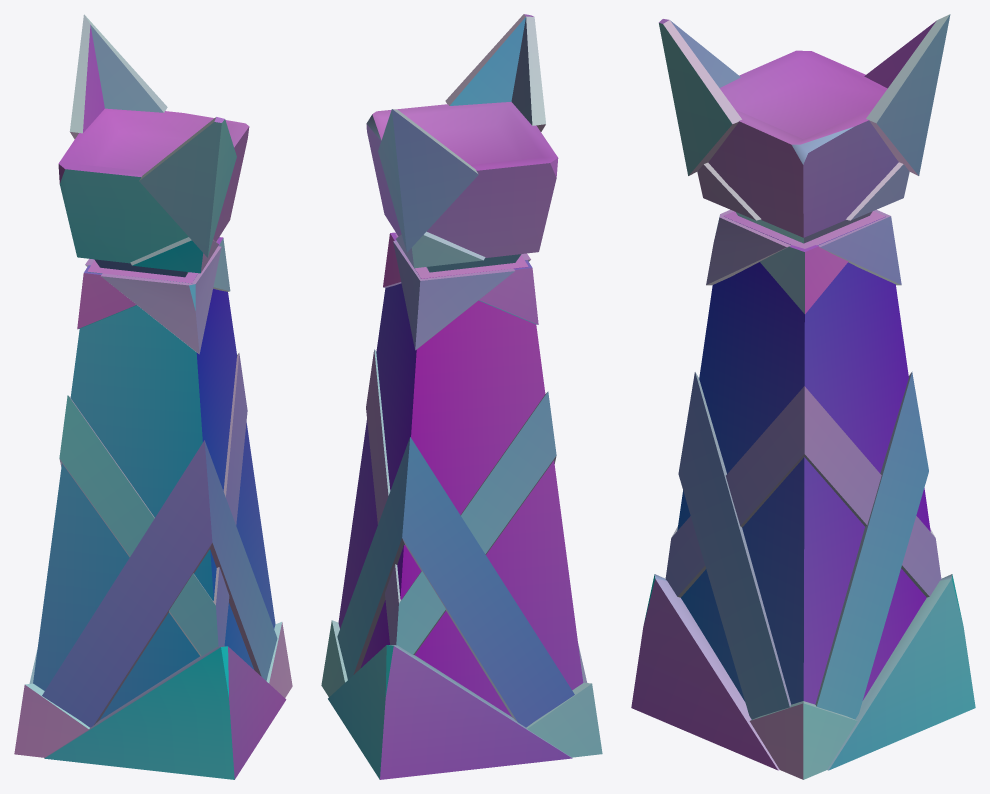
The picture shows the model from 3 angles, left to right: view 1: azimuth 30°, elevation 25°; view 2: azimuth 150°, elevation 25°; view 3: azimuth 270°, elevation 25°; orthographic projection. The views are drawn at different scales.
Parts seen in each view (by area): view 1: SM_LimestoneLarge_02_LOD0; view 2: SM_LimestoneLarge_02_LOD0; view 3: SM_LimestoneLarge_02_LOD0.
Part boxes in pixels (bbox=[...]): SM_LimestoneLarge_02_LOD0: bbox=[14, 14, 292, 779]; SM_LimestoneLarge_02_LOD0: bbox=[321, 14, 602, 779]; SM_LimestoneLarge_02_LOD0: bbox=[631, 14, 975, 779].
Bounding box in the file's own units: 0.4577 × 1.03 × 0.4633.
